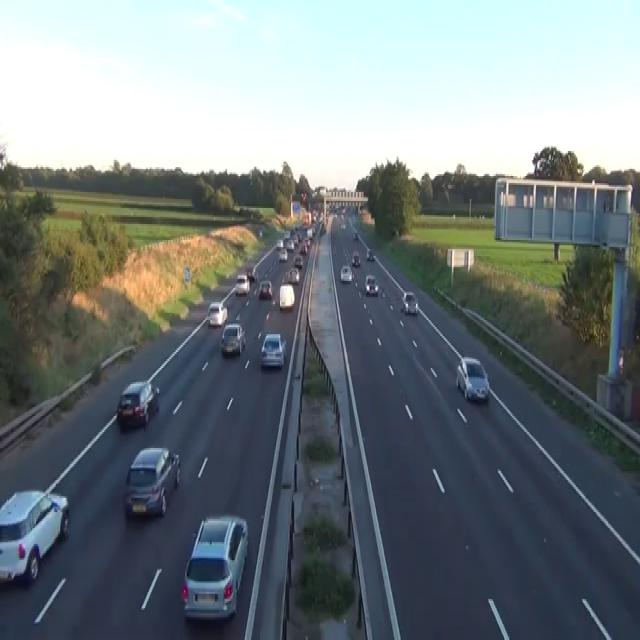Car: (181, 514, 248, 620), (0, 489, 69, 585), (123, 446, 180, 519), (116, 378, 160, 428), (455, 356, 489, 402), (260, 332, 286, 368), (220, 322, 246, 356), (207, 300, 227, 326), (401, 290, 418, 314), (279, 282, 294, 308), (234, 274, 249, 295), (258, 279, 273, 299), (364, 274, 378, 295), (340, 265, 352, 283), (287, 266, 300, 282), (246, 267, 257, 281), (351, 250, 360, 266), (278, 247, 287, 261), (294, 254, 303, 268), (365, 274, 375, 286), (286, 238, 294, 251), (281, 270, 289, 283), (366, 247, 373, 260), (301, 190, 307, 203), (304, 236, 310, 249), (276, 238, 283, 249), (319, 224, 326, 235), (306, 228, 313, 238), (300, 244, 307, 254), (283, 229, 289, 240), (311, 224, 317, 235), (292, 235, 298, 245), (380, 286, 385, 297), (312, 210, 317, 220), (353, 231, 358, 240), (340, 222, 345, 230), (259, 228, 262, 236), (333, 213, 337, 219)
Truck: (290, 201, 300, 219)
